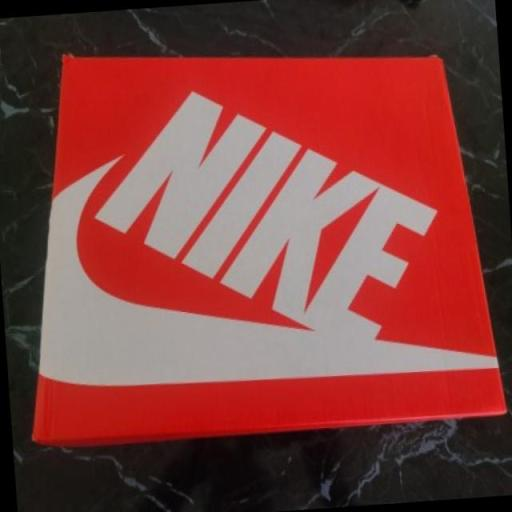Nike: (86, 71, 448, 362)
